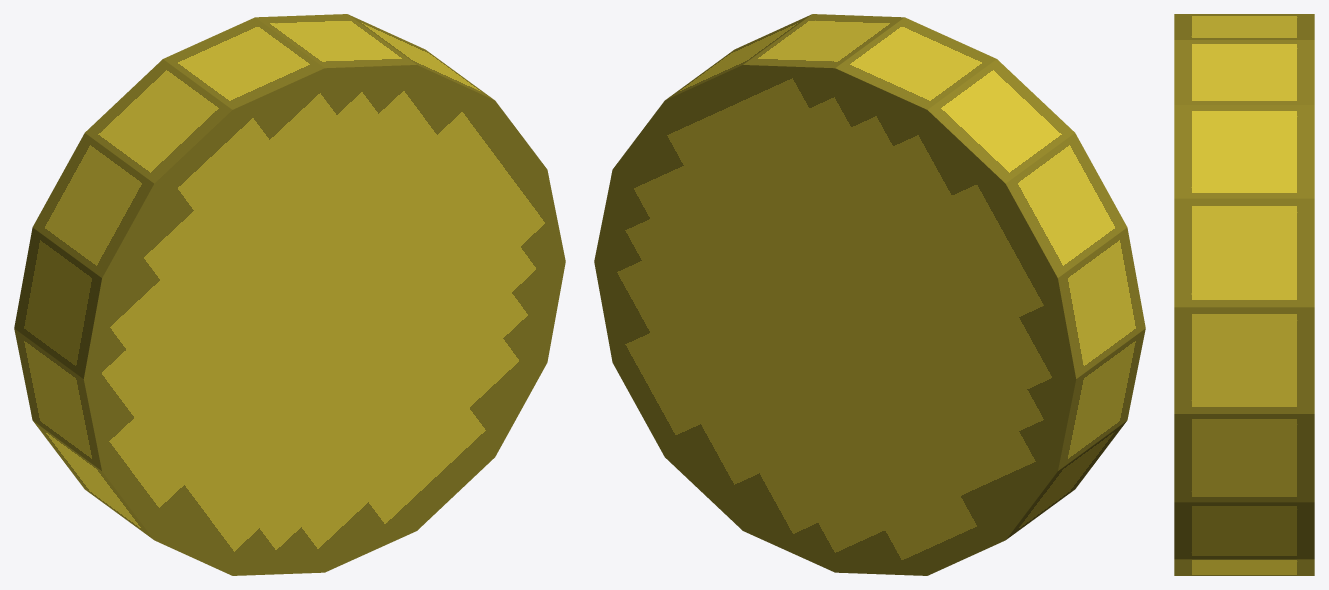
The model's file is Coin.glb.
The picture shows the model from 3 angles, left to right: view 1: azimuth 30°, elevation 25°; view 2: azimuth 150°, elevation 25°; view 3: azimuth 270°, elevation 25°; orthographic projection.
Parts seen in each view (by area): view 1: Cylinder; view 2: Cylinder; view 3: Cylinder.
Part boxes in pixels (bbox=[...]): Cylinder: bbox=[14, 14, 565, 575]; Cylinder: bbox=[594, 14, 1145, 575]; Cylinder: bbox=[1174, 14, 1314, 575].
Size of the model in its own units: 2 by 2 by 0.5.
Materials: 1 (1 with a texture image).
